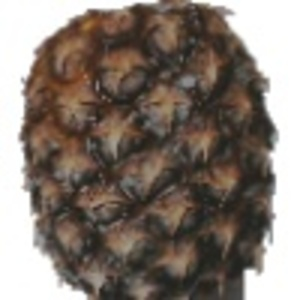abacaxi: (15, 4, 280, 291)
